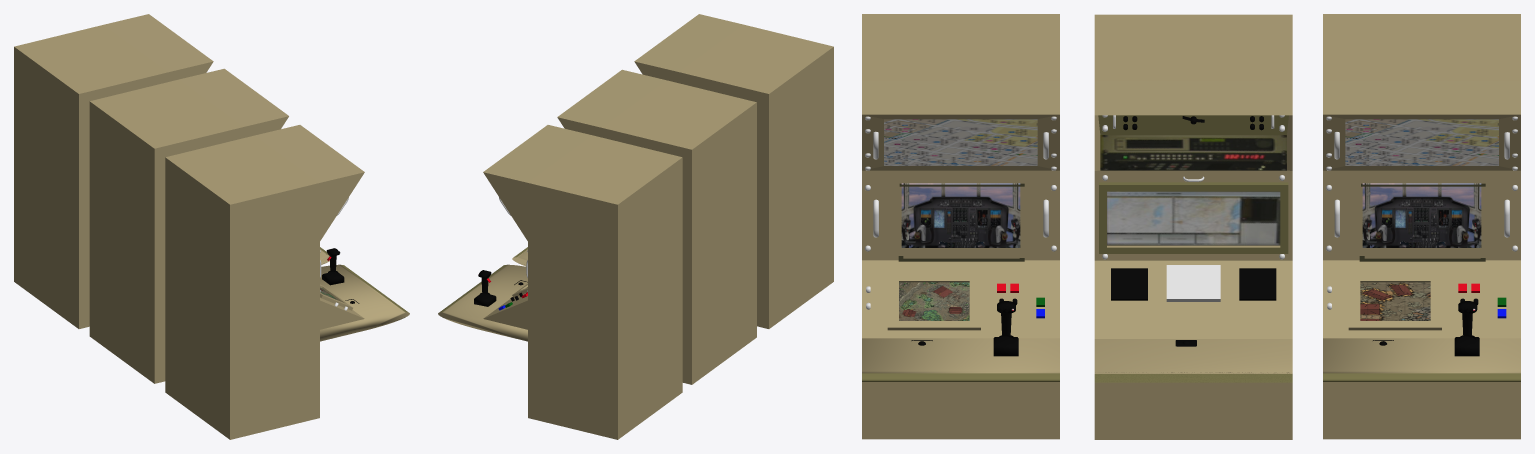
Rendered from Comms Cabin Console.fbx.
The picture shows the model from 3 angles, left to right: view 1: azimuth 30°, elevation 25°; view 2: azimuth 150°, elevation 25°; view 3: azimuth 270°, elevation 25°; orthographic projection. The views are drawn at different scales.
Parts seen in each view (by area): view 1: Plane.003, Cube.017, Plane.004; view 2: Plane.004, Plane.003, Cube.017; view 3: Cube.017, Plane.003, Plane.004.
Boxes of the visible parts, x1,y1,x2,y2 form: Plane.003: (165, 125, 409, 439); Cube.017: (89, 68, 329, 383); Plane.004: (14, 14, 213, 328); Plane.004: (438, 125, 682, 439); Plane.003: (634, 14, 833, 328); Cube.017: (512, 69, 756, 384); Cube.017: (1094, 14, 1292, 439); Plane.003: (862, 14, 1059, 439); Plane.004: (1323, 14, 1520, 439).
Size of the model in its own units: 161 by 200 by 333.
